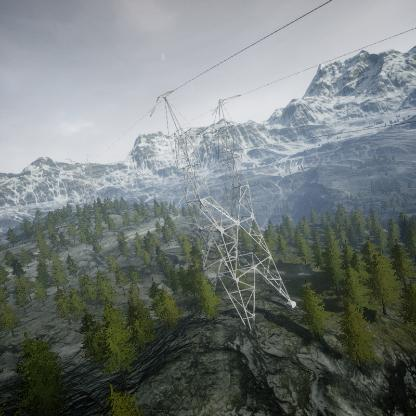tower: (143, 87, 300, 336)
